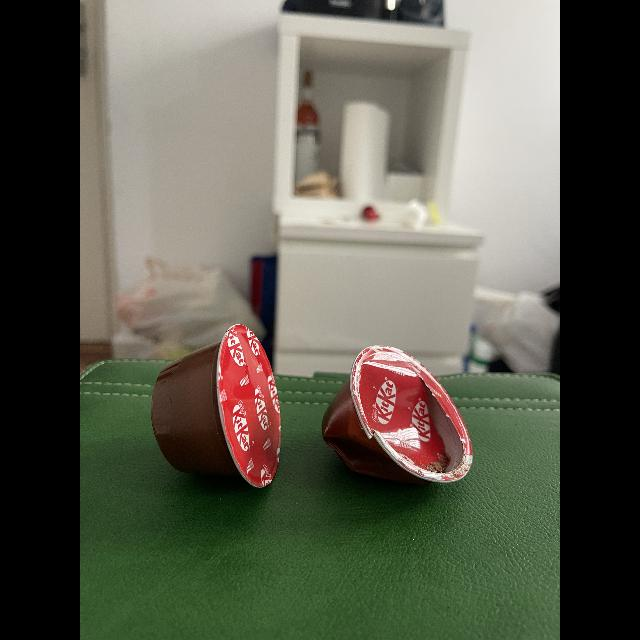damaged_capsule: (323, 339, 483, 505)
intact_capsule: (146, 316, 288, 504)
